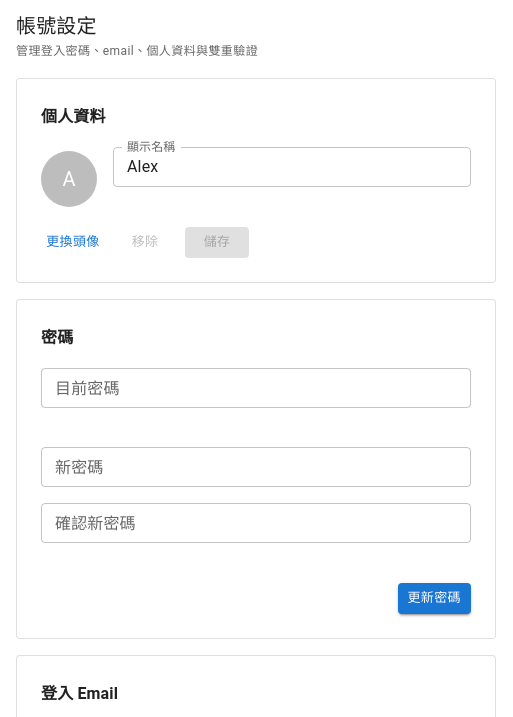
Scenario: AccountSettingsView - 密碼 › 目前密碼錯誤時顯示行內錯誤
Type "wrong-pass" into the password field labelled "目前密碼".
click(256, 388); type("wrong-pass")  # box [41,368,471,408]
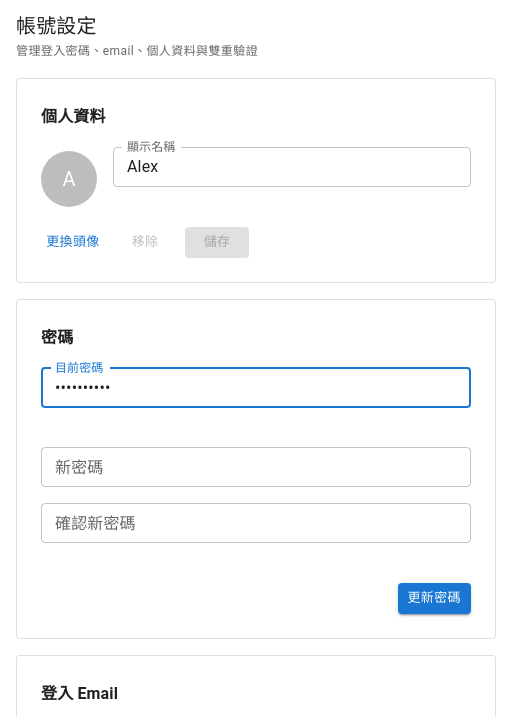
Type "Abc12345" into the password field labelled "新密碼".
click(256, 468); type("Abc12345")  # box [41,448,471,488]
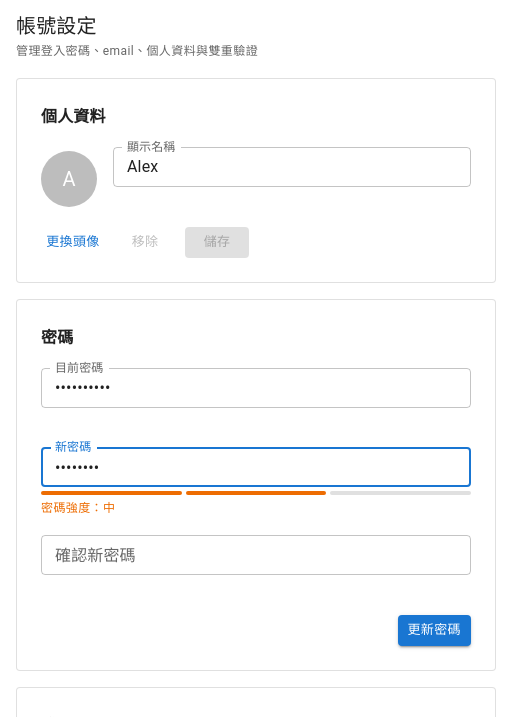
Type "Abc12345" into the password field labelled "確認新密碼".
click(256, 555); type("Abc12345")  # box [41,535,471,575]
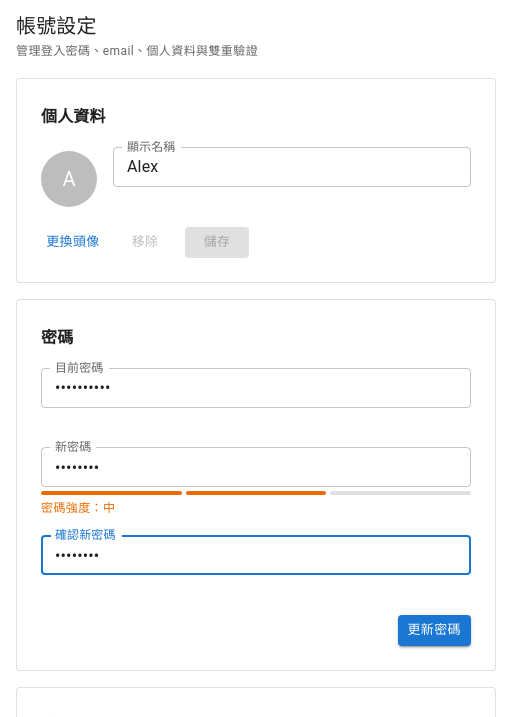
Click the button "更新密碼".
click(434, 631)  # box [398,615,471,646]
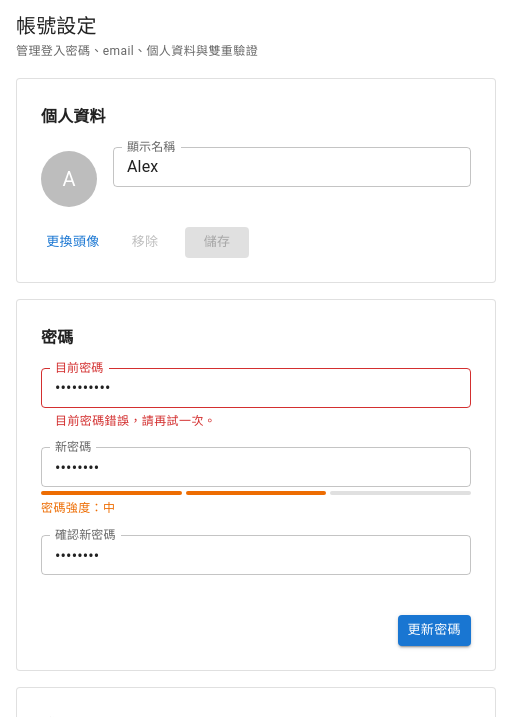
Expected: the text "目前密碼錯誤，請再試一次。" is shown, [55,414,216,428]
